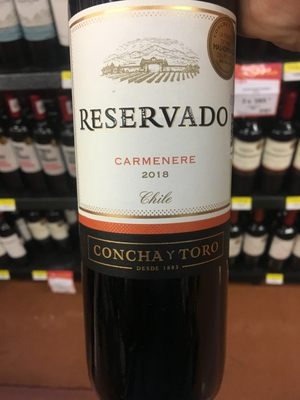reservado carmenere: (64, 3, 245, 398)
